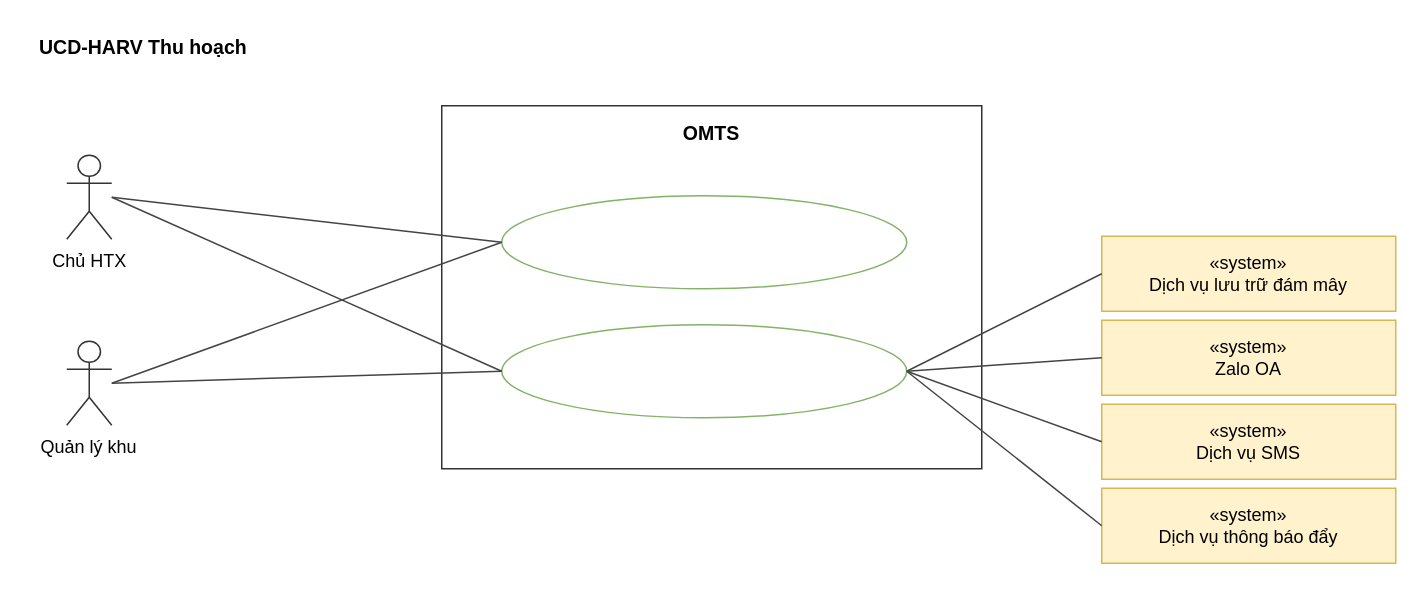
Image size: 1422x590. Some labels were removed from this diagram. The centre of each missing label's shape, as x and y in pixels:
UC-HARV-01 Lập kế hoạch thu hoạch: the point at 703,241
UC-HARV-02 Ghi nhận thu hoạch: the point at 703,370
